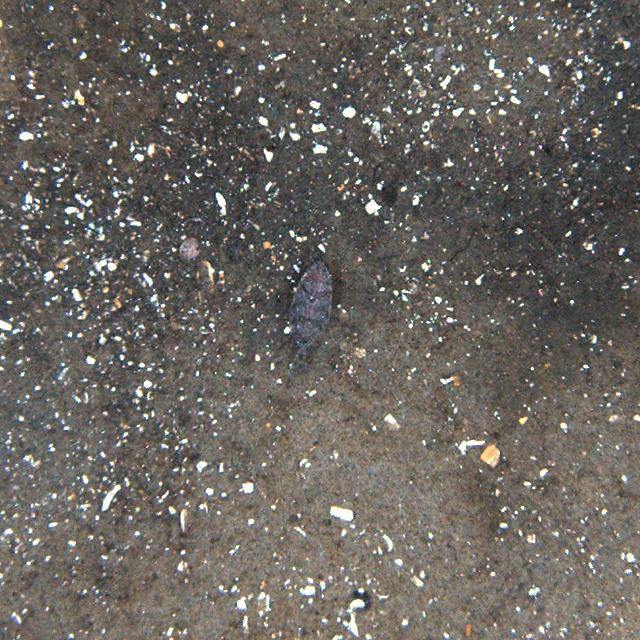flatfish: (271, 256, 341, 381)
